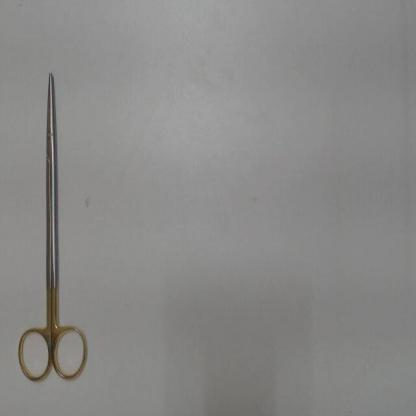7 Metzenbaum Scissors: (12, 65, 93, 387)
